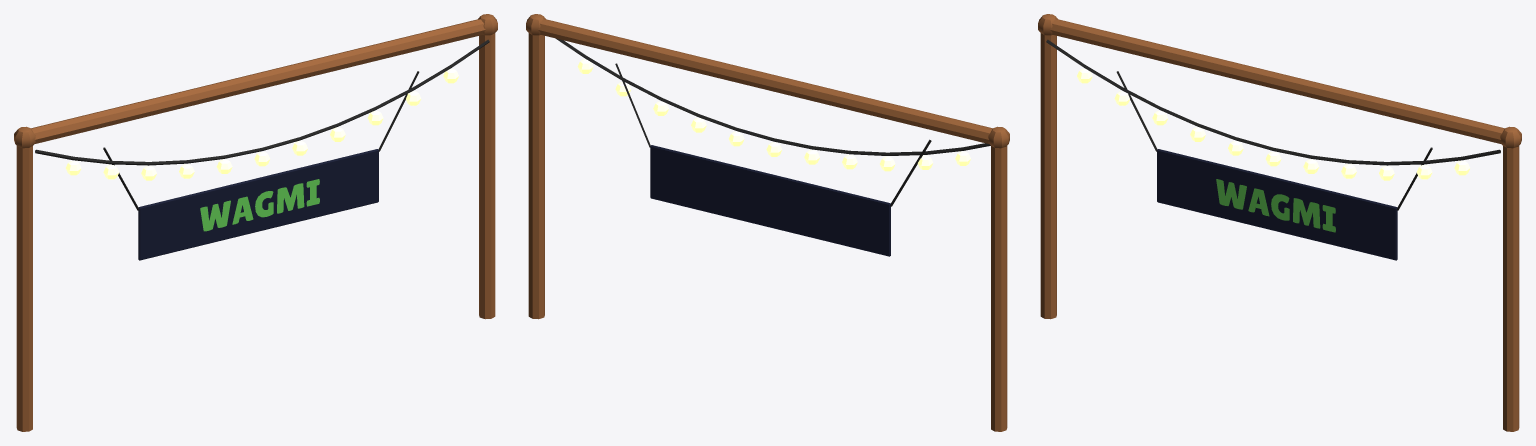
File: pipe_lights.glb
3 views of the same model, side by side, from view 1: azimuth 30°, elevation 25°; view 2: azimuth 150°, elevation 25°; view 3: azimuth 330°, elevation 25° (orthographic).
Visible parts, largest first — view 1: body, fx_glow_bulbs; view 2: body, fx_glow_bulbs; view 3: body, fx_glow_bulbs.
Part boxes in pixels (x1=…): body: x1=14, y1=14, x2=497, y2=431; fx_glow_bulbs: x1=65, y1=68, x2=458, y2=180; body: x1=526, y1=14, x2=1009, y2=431; fx_glow_bulbs: x1=577, y1=59, x2=970, y2=171; body: x1=1038, y1=14, x2=1521, y2=431; fx_glow_bulbs: x1=1077, y1=68, x2=1470, y2=180.
Size of the model in its own units: 5.21 by 3.11 by 0.2996.
